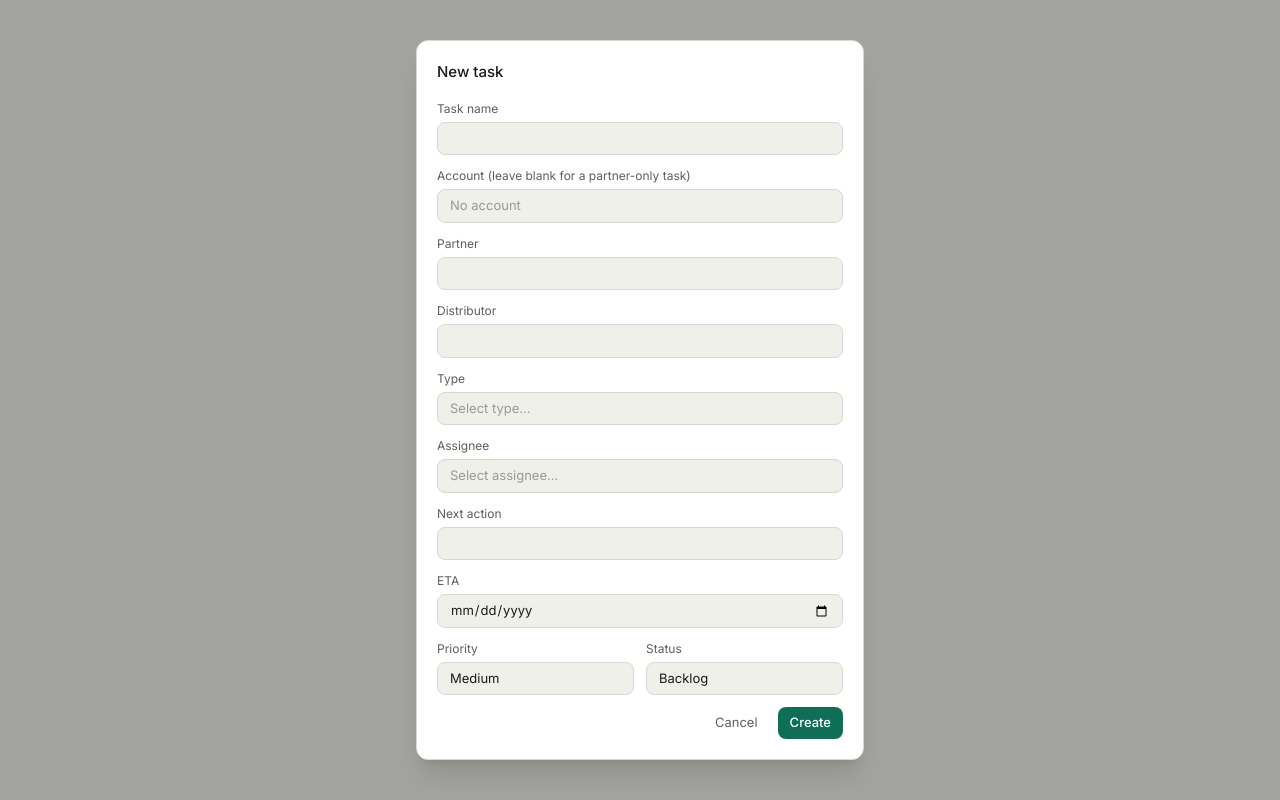
it: NewTaskModal › does not offer "Done" as a status option for a new task
Click the button "Backlog" at (744, 679), box [646,662,843,695]
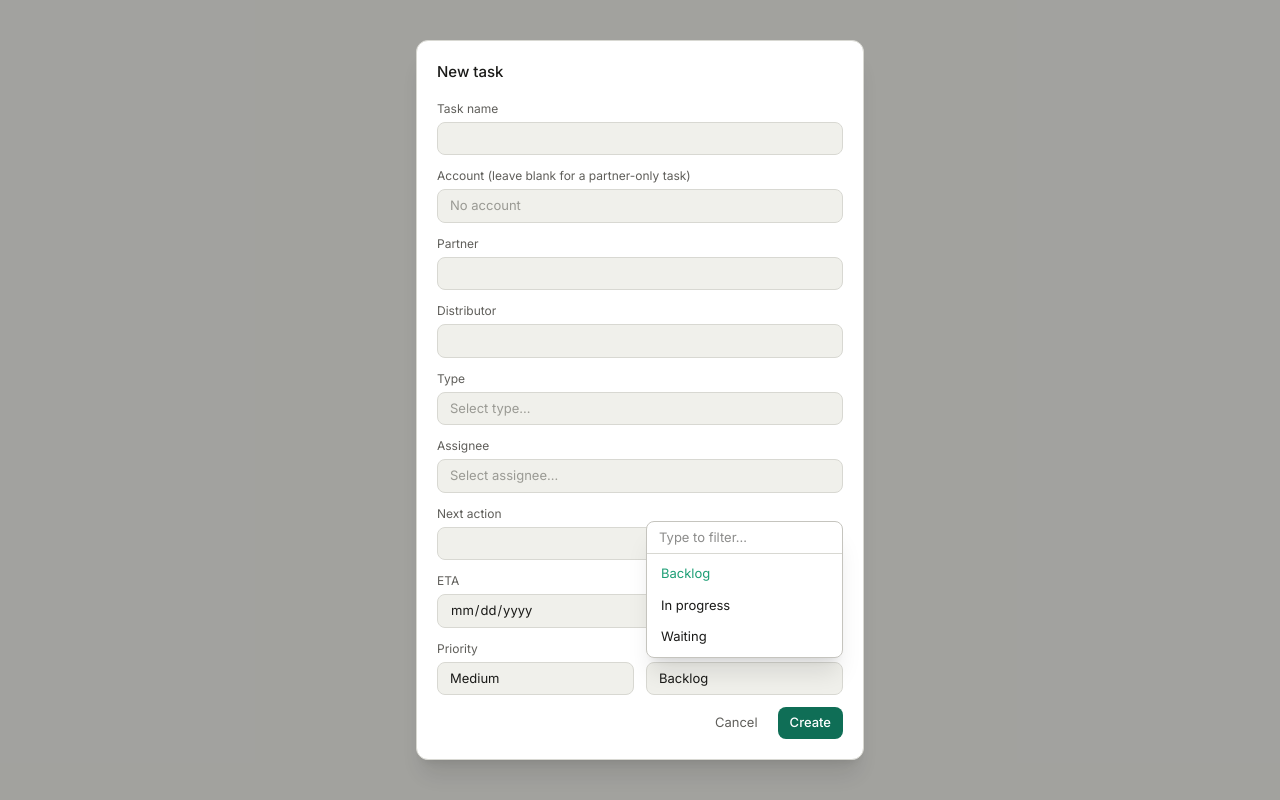
Now the button "Waiting" is shown, box [651,621,838,653]
